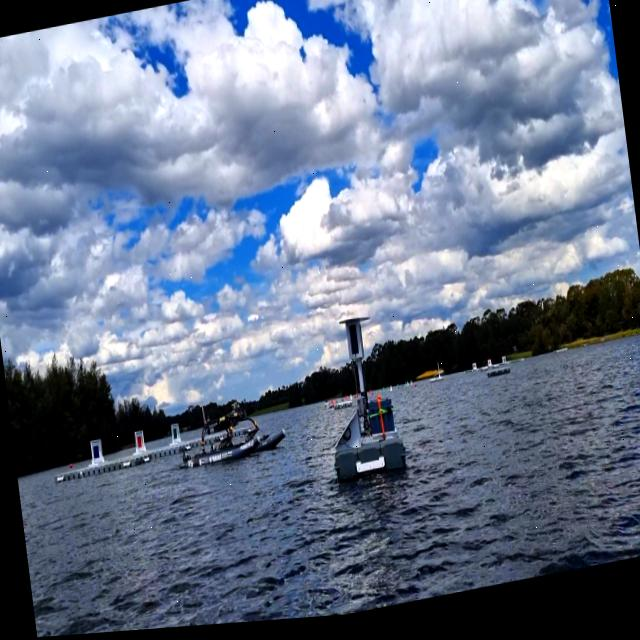led: (346, 325, 361, 362)
